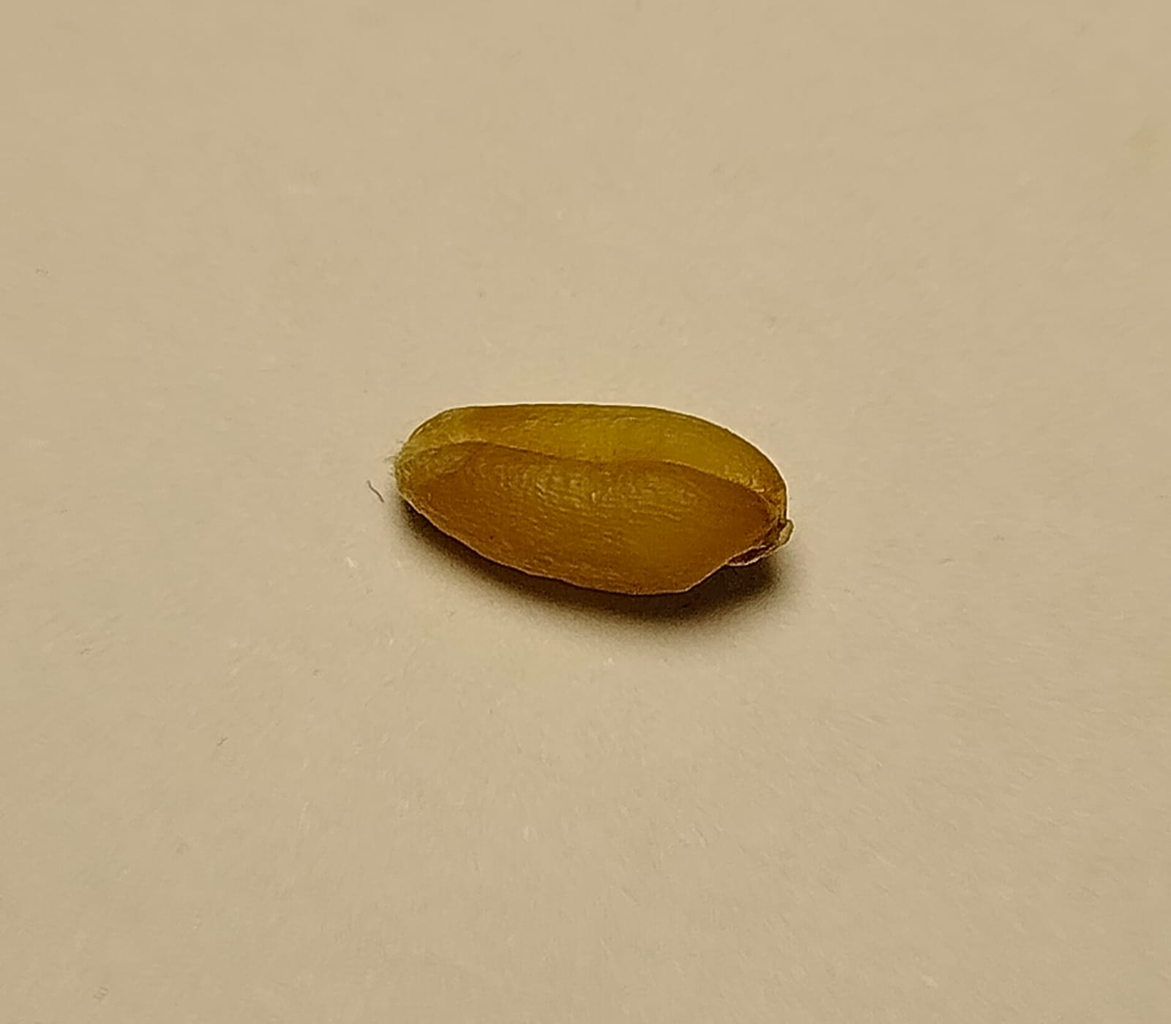healthy: (395, 403, 791, 595)
